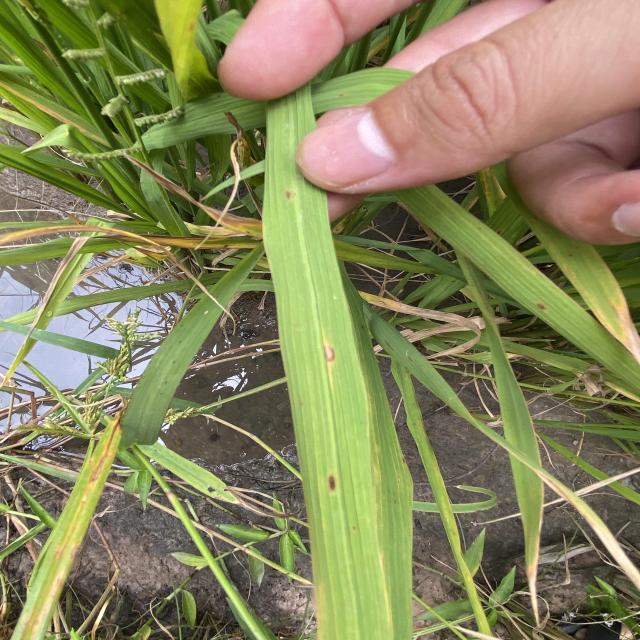Dom nau: (322, 346, 339, 364), (325, 474, 339, 493), (534, 302, 550, 314), (281, 190, 293, 202)
